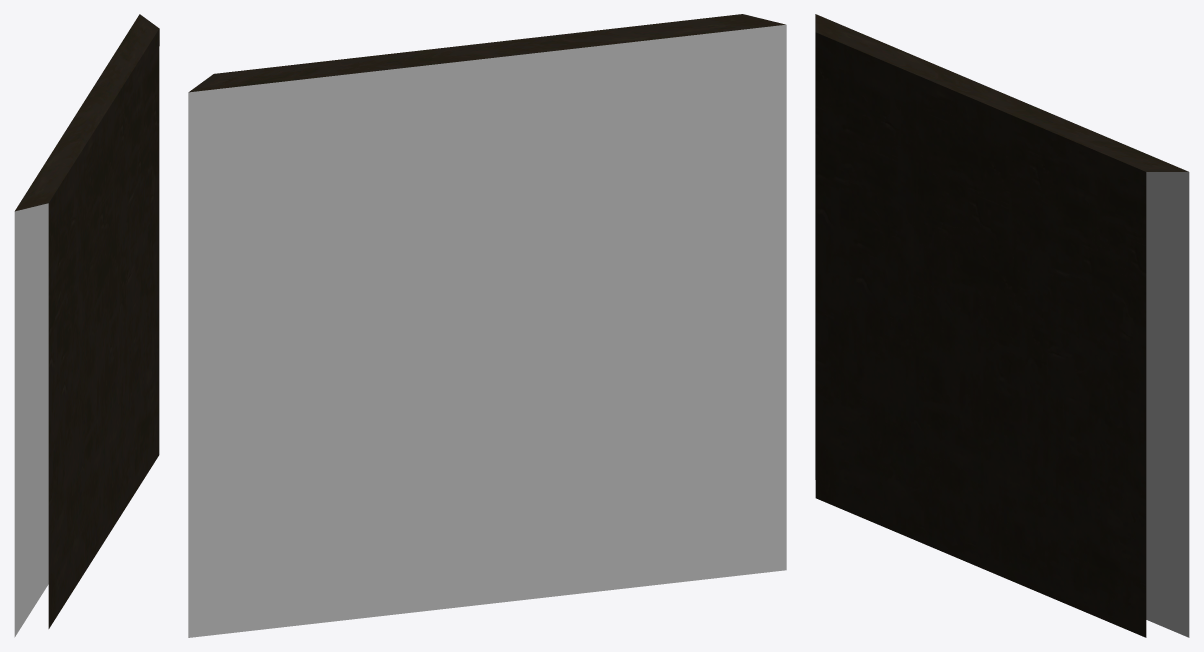
The model's file is fortress_wall_diagonal_03.fbx.
3 views of the same model, side by side, from view 1: azimuth 30°, elevation 25°; view 2: azimuth 150°, elevation 25°; view 3: azimuth 270°, elevation 25° (orthographic). The views are drawn at different scales.
Parts seen in each view (by area): view 1: fortress_wall_diagonal_03-0; view 2: fortress_wall_diagonal_03-0; view 3: fortress_wall_diagonal_03-0.
Part boxes in pixels (bbox=[...]): fortress_wall_diagonal_03-0: bbox=[14, 14, 159, 637]; fortress_wall_diagonal_03-0: bbox=[188, 14, 786, 637]; fortress_wall_diagonal_03-0: bbox=[815, 14, 1189, 637].
Bounding box in the file's own units: 4 × 5.5 × 4.
